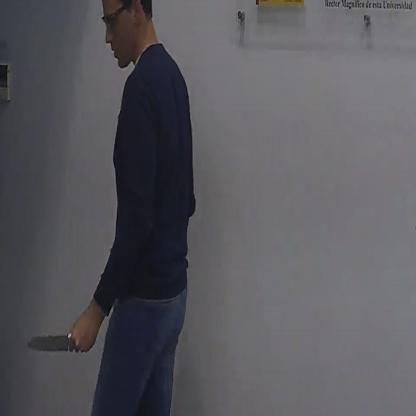knife: (25, 316, 84, 357)
